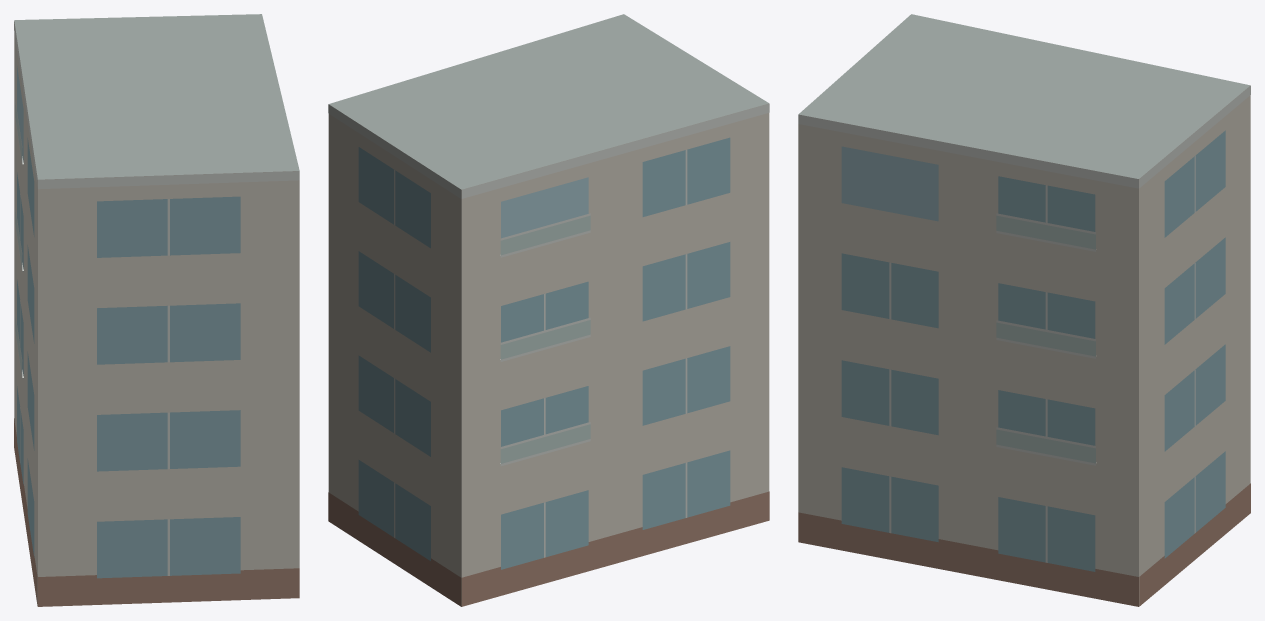
The model's file is survey-upis-32733080.glb.
3 renders of one model, left to right at view 1: azimuth 30°, elevation 25°; view 2: azimuth 150°, elevation 25°; view 3: azimuth 270°, elevation 25°, orthographic. The views are drawn at different scales.
Visible parts, largest first — view 1: survey-upis-32733080.tmp; view 2: survey-upis-32733080.tmp; view 3: survey-upis-32733080.tmp.
Part boxes in pixels (x1,y1,x2,y2): survey-upis-32733080.tmp: (14,14,299,606); survey-upis-32733080.tmp: (328,14,769,606); survey-upis-32733080.tmp: (798,14,1250,606).
Size of the model in its own units: 9.03 by 10.9 by 10.46.
